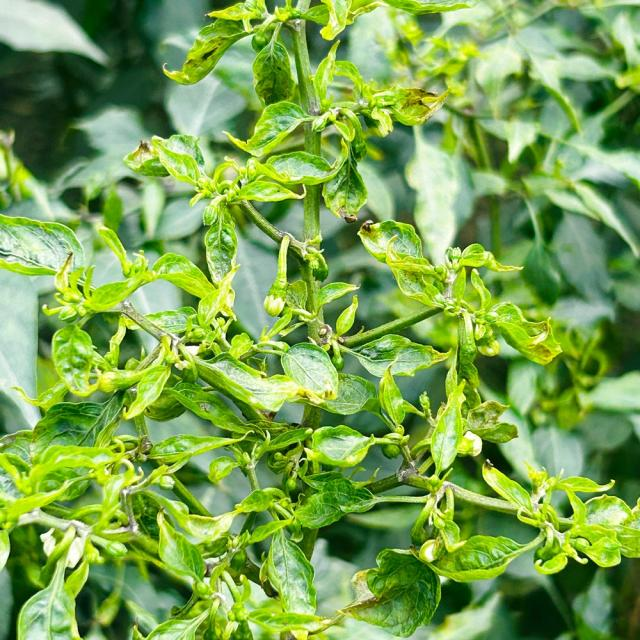Chilli_Leaf_Curl: (0, 1, 638, 638), (279, 341, 339, 402)
